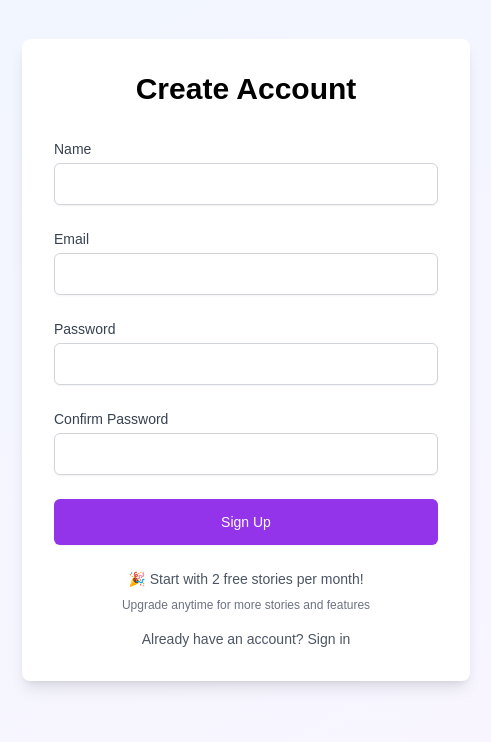
Test: RegisterPage › should handle registration error
In the field labelled "Name": (246,184) [54,163,438,205], type "Test User"
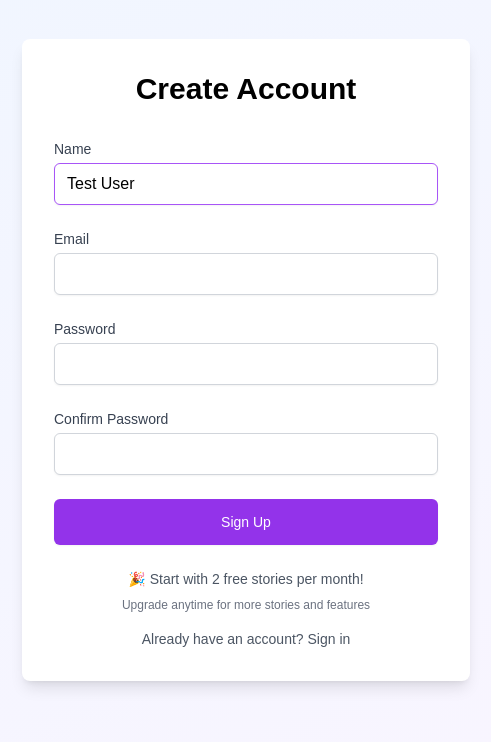
In the field labelled "Email": (246,274) [54,253,438,295], type "existing@example.com"
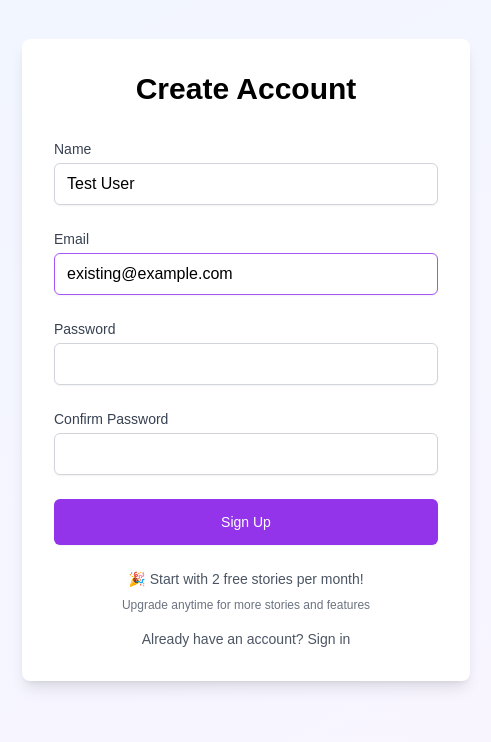
In the password field labelled "Password": (246,364) [54,343,438,385], type "password123"
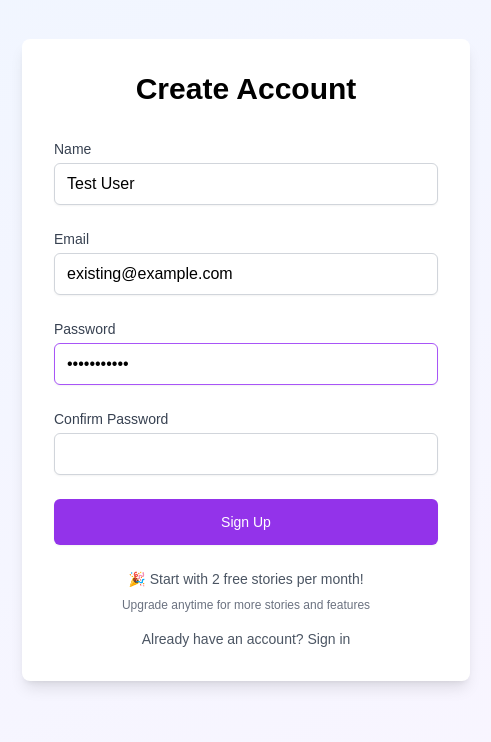
In the password field labelled "Confirm Password": (246,454) [54,433,438,475], type "password123"
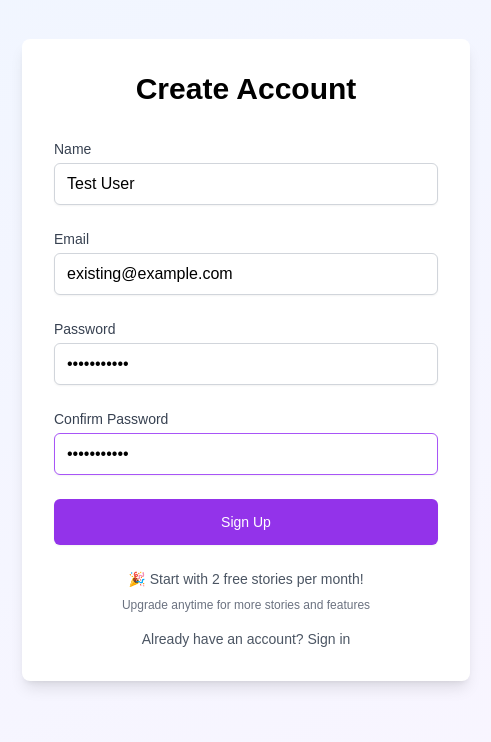
Click the button "Sign Up": (246,522) [54,499,438,545]
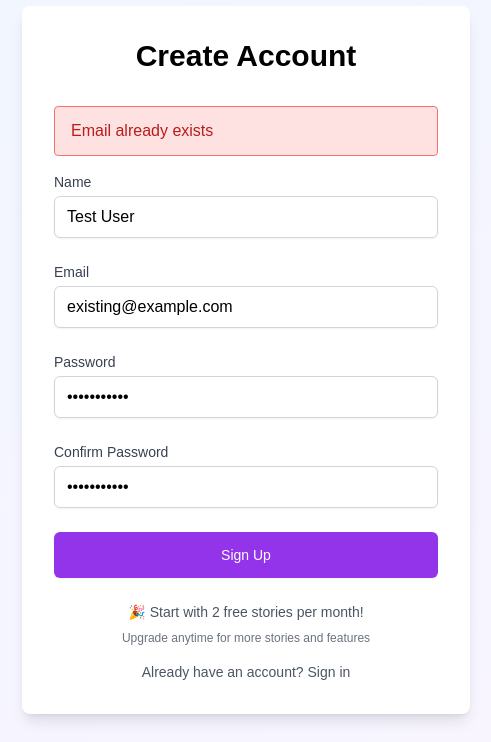
Expected: the text "Email already exists" is shown, [54,106,438,156]
